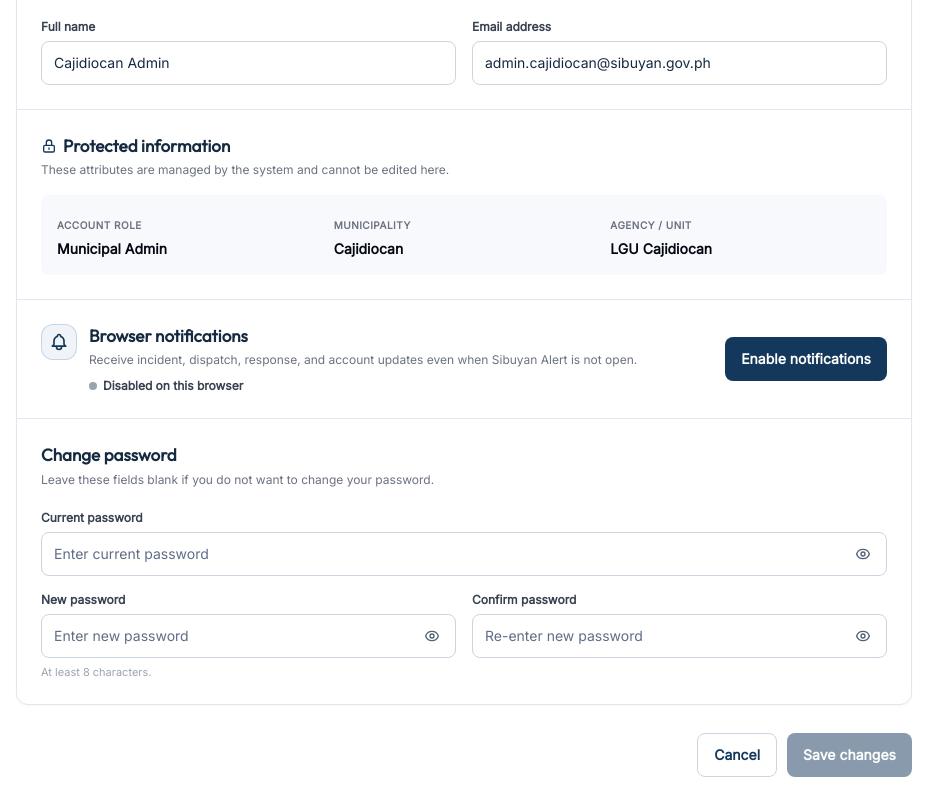
ProfileSettingsPage › displays field-specific error messages under relevant password inputs
This screenshot has width=929, height=794.
(page scrolled)
Type "currentPass123" into the password field labelled "Current password" at {"x": 464, "y": 554}, box [41, 532, 887, 576]
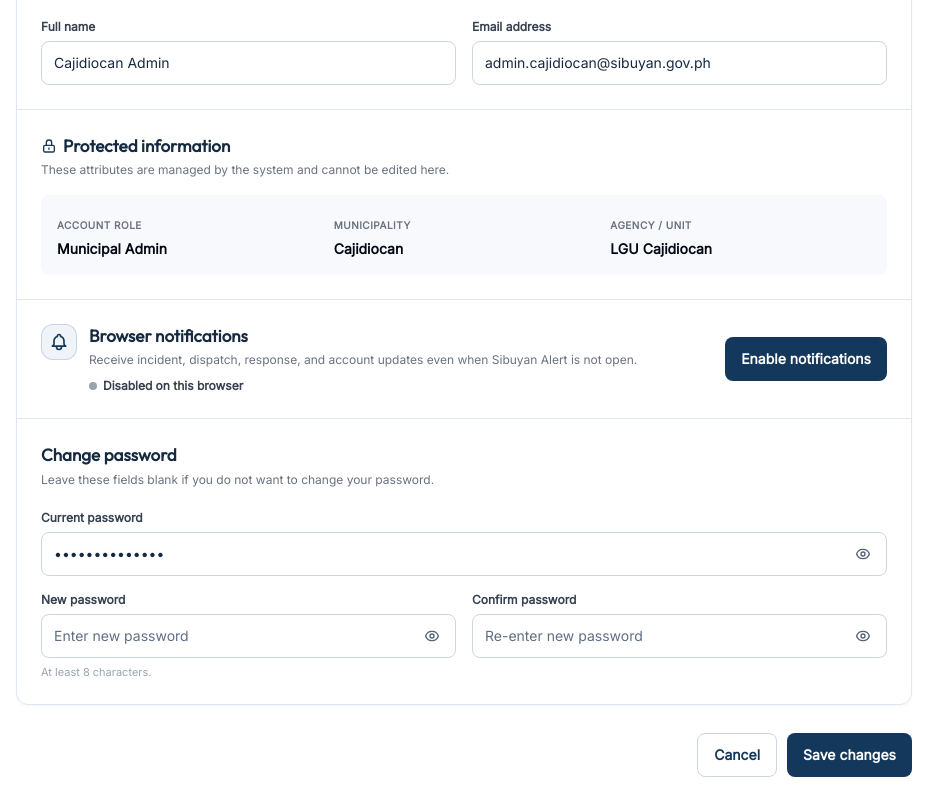
Type "ValidPassword123!" into the password field labelled "New password" at {"x": 248, "y": 636}, box [41, 614, 456, 658]
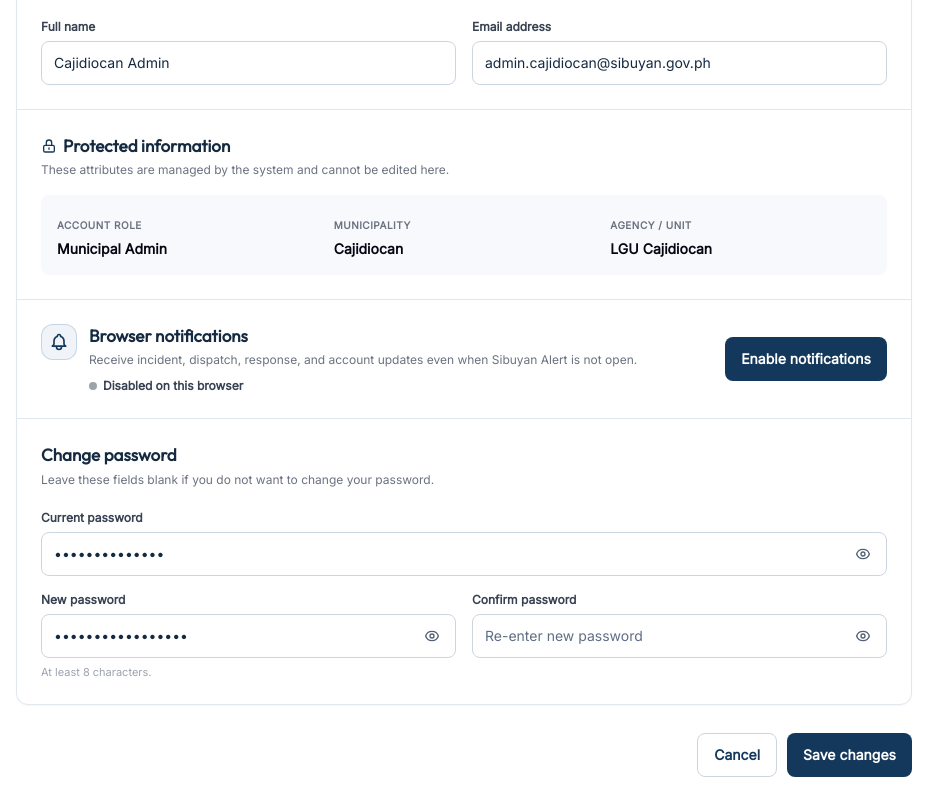
Type "MismatchPassword123!" into the password field labelled "Confirm password" at {"x": 680, "y": 636}, box [472, 614, 887, 658]
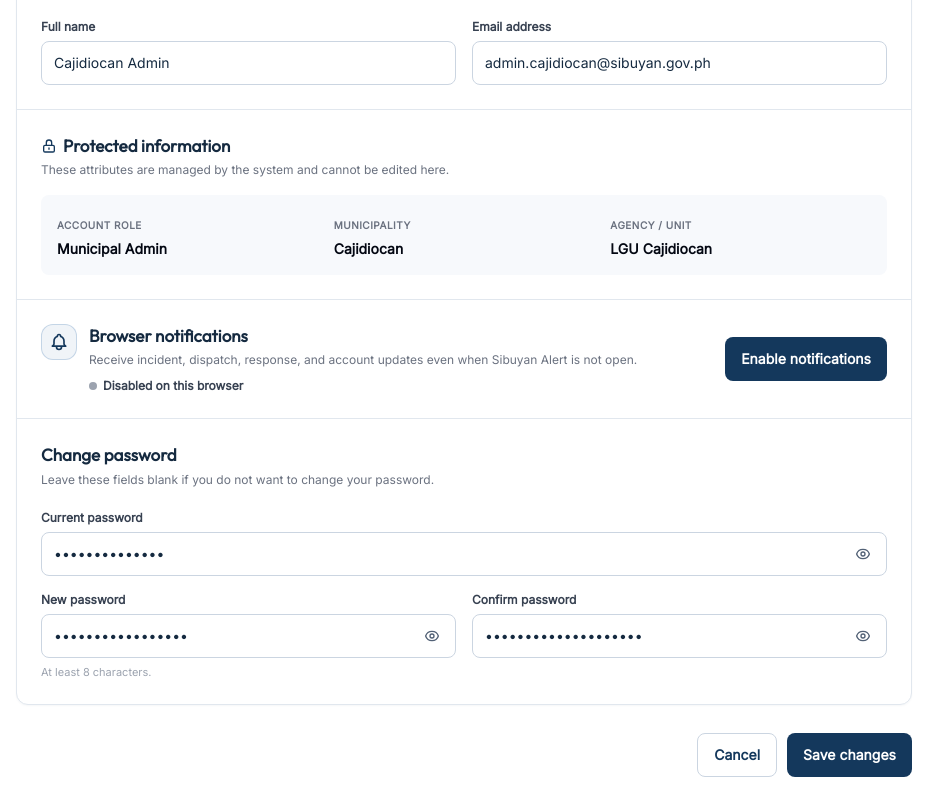
Click the button "Save changes" at {"x": 850, "y": 755}, box [787, 733, 912, 777]
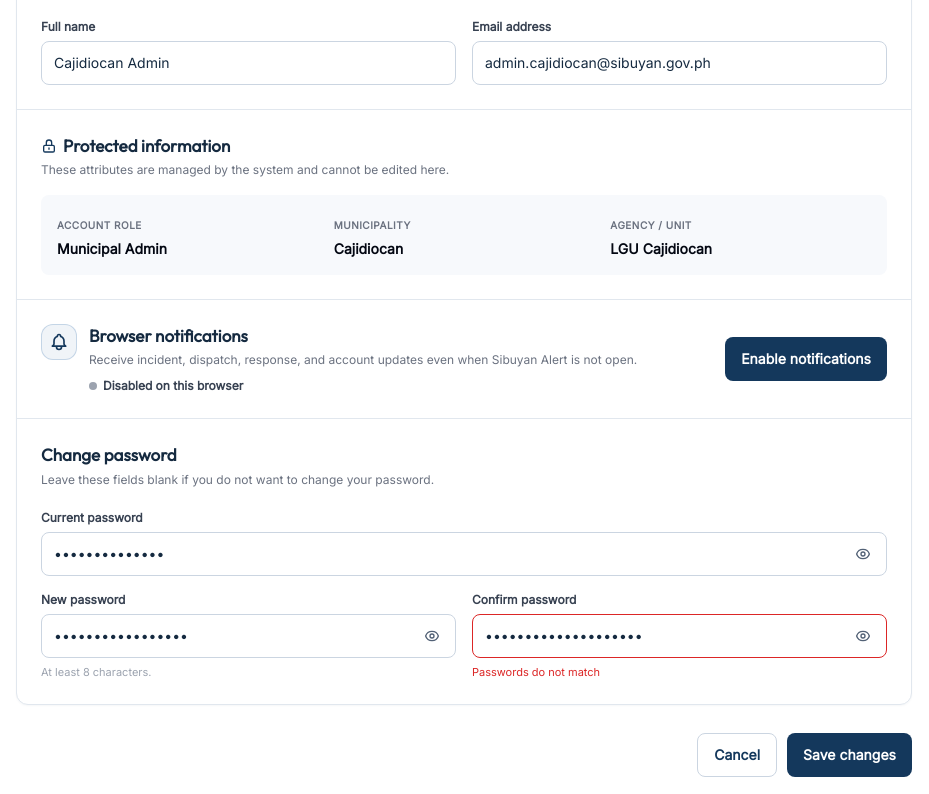
Now the text "Passwords do not match" is shown, box [472, 665, 600, 679]
Typing in confirm password clears its error
Type "ValidPassword123!" into the password field labelled "Confirm password" at {"x": 680, "y": 636}, box [472, 614, 887, 658]
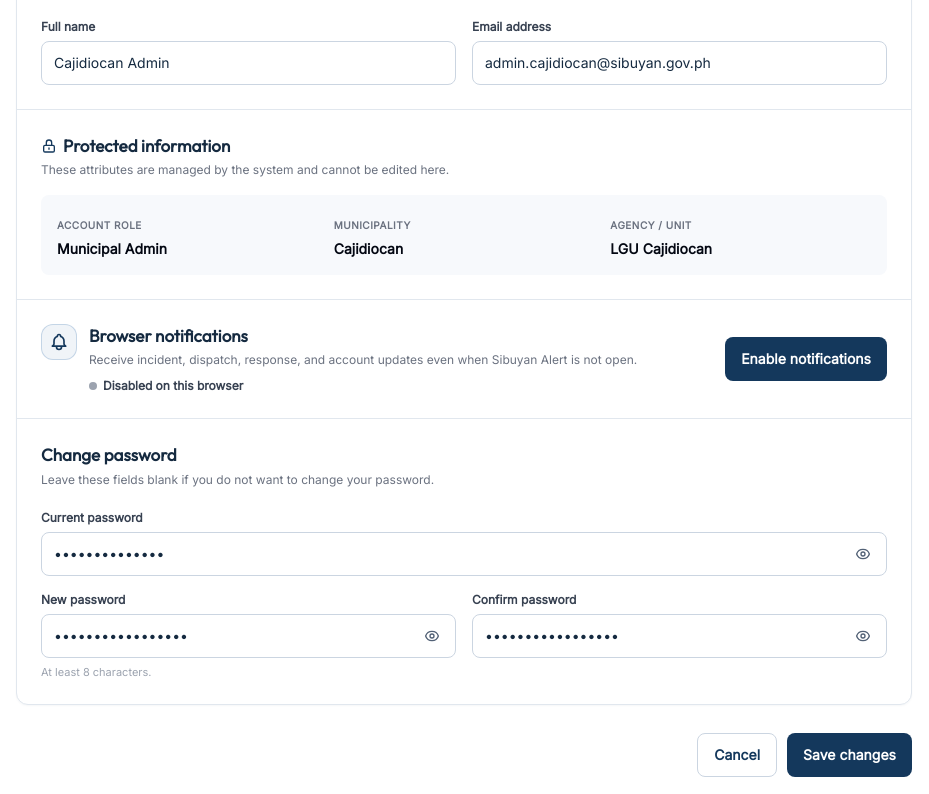
Now the text "Passwords do not match" is gone
